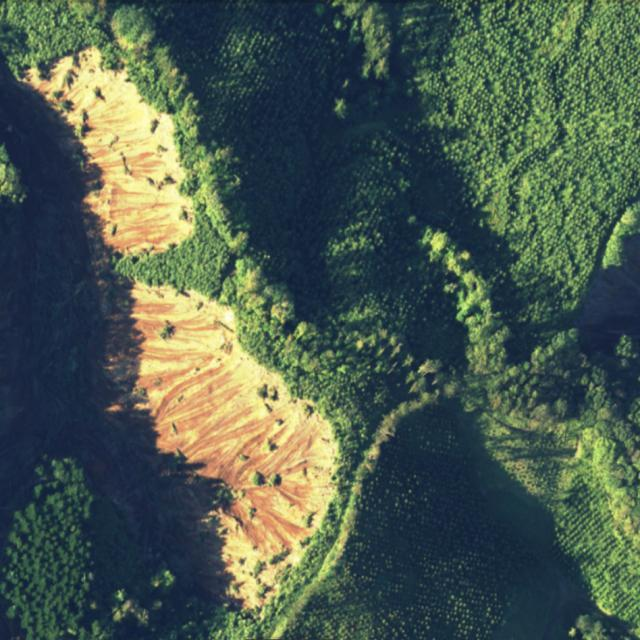landslide: (130, 283, 335, 608), (25, 48, 194, 253)
